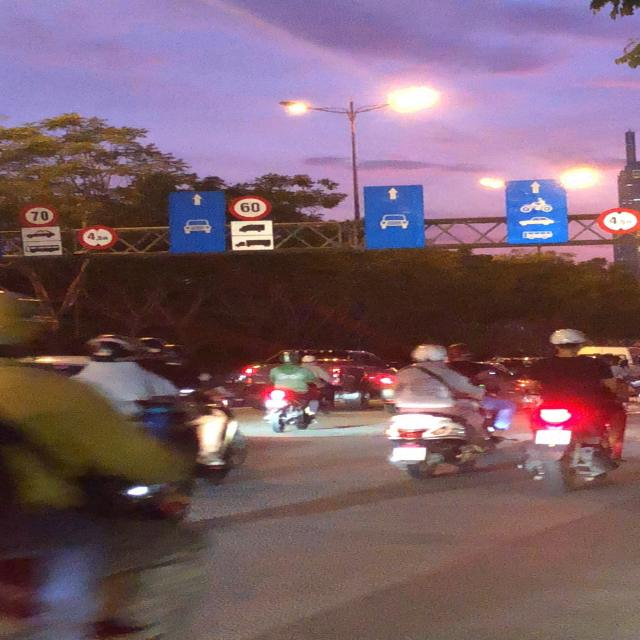Bien bao han che chieu cao: (594, 205, 640, 237), (78, 223, 118, 252)
Bien bao toc do toi da cho phep: (225, 194, 273, 221), (15, 201, 60, 227)
